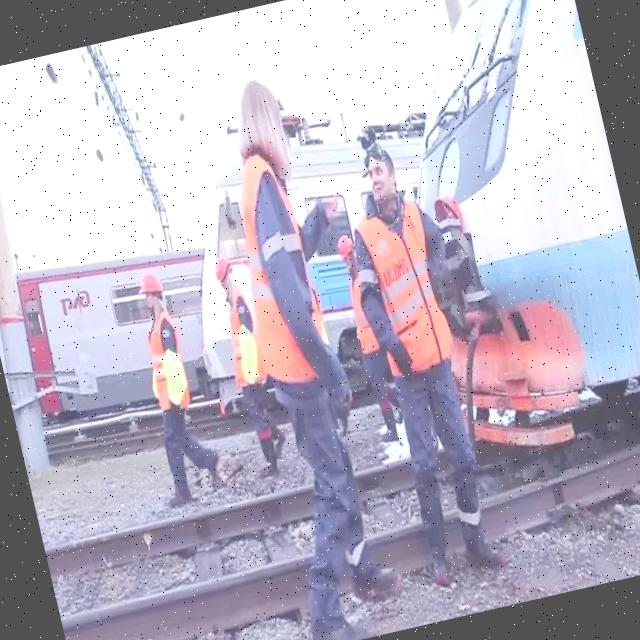vest: (217, 148, 331, 386), (350, 192, 458, 384), (137, 311, 195, 418), (215, 288, 269, 390), (343, 268, 379, 356), (156, 346, 194, 411), (232, 324, 266, 389)
